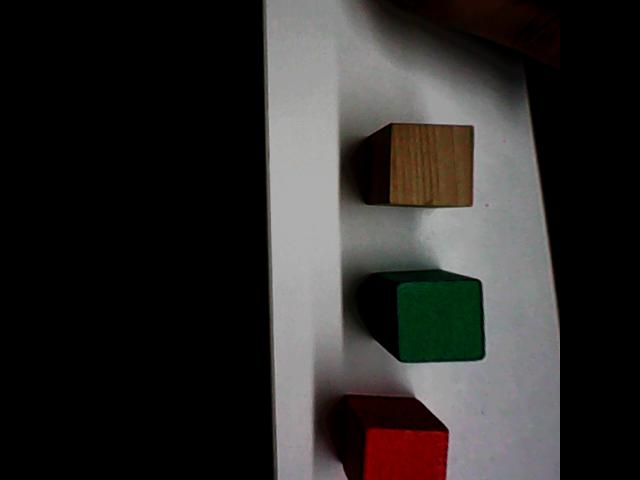green_box: (368, 266, 490, 367)
raw_box: (361, 121, 479, 209)
red_box: (334, 395, 451, 480)
